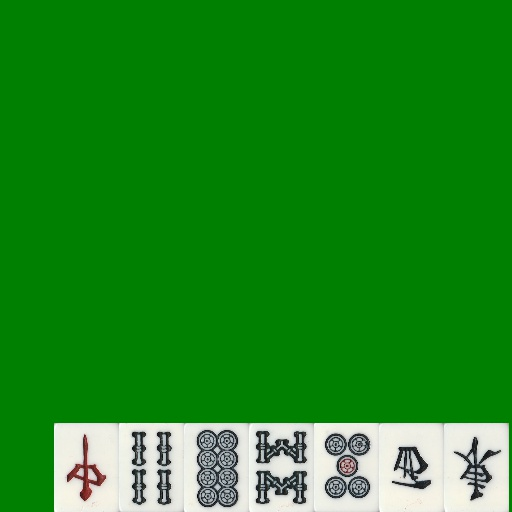4s: (119, 423, 184, 512)
5p: (314, 423, 379, 512)
8p: (184, 423, 249, 512)
8s: (249, 423, 314, 512)
east: (444, 423, 509, 512)
tyun: (54, 423, 119, 512)
west: (379, 423, 444, 512)
